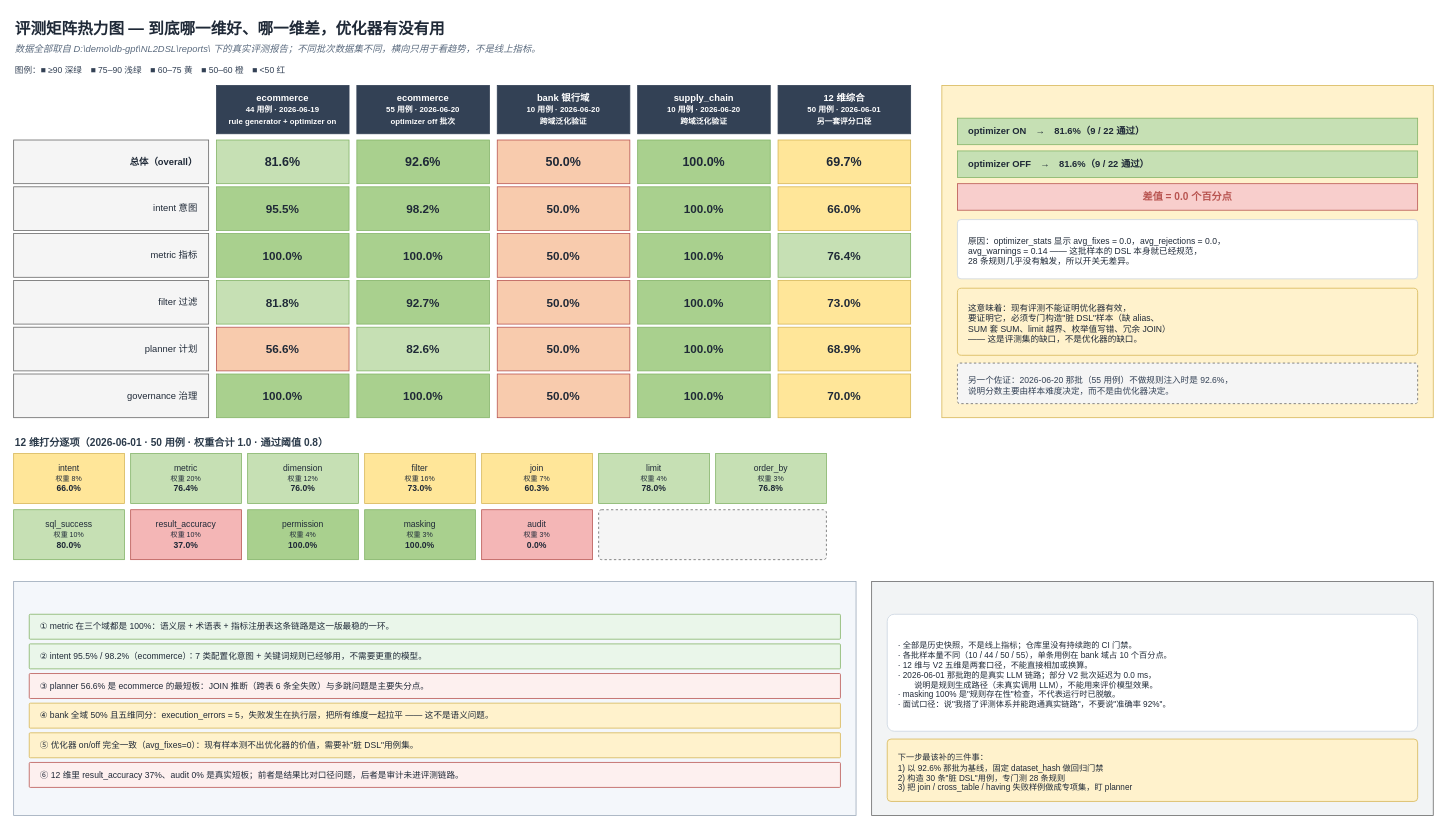
The diagram is 1447 pixels wide and 829 high, and some of its shapes have lost their labels. Each missing label, with the box of its shape:
从这张图能读出的 6 件事: (13, 581, 856, 815)
优化器开关对比（同一批 44 用例，rule generator）: (941, 85, 1433, 418)
使用边界（别被分数骗）: (871, 581, 1433, 815)
说明：masking 100% 是评测口径分（检查脱敏规则是否存在）， 不等于运行时真的脱敏了 —— 主链路还没接 mask()。: (598, 509, 826, 560)
